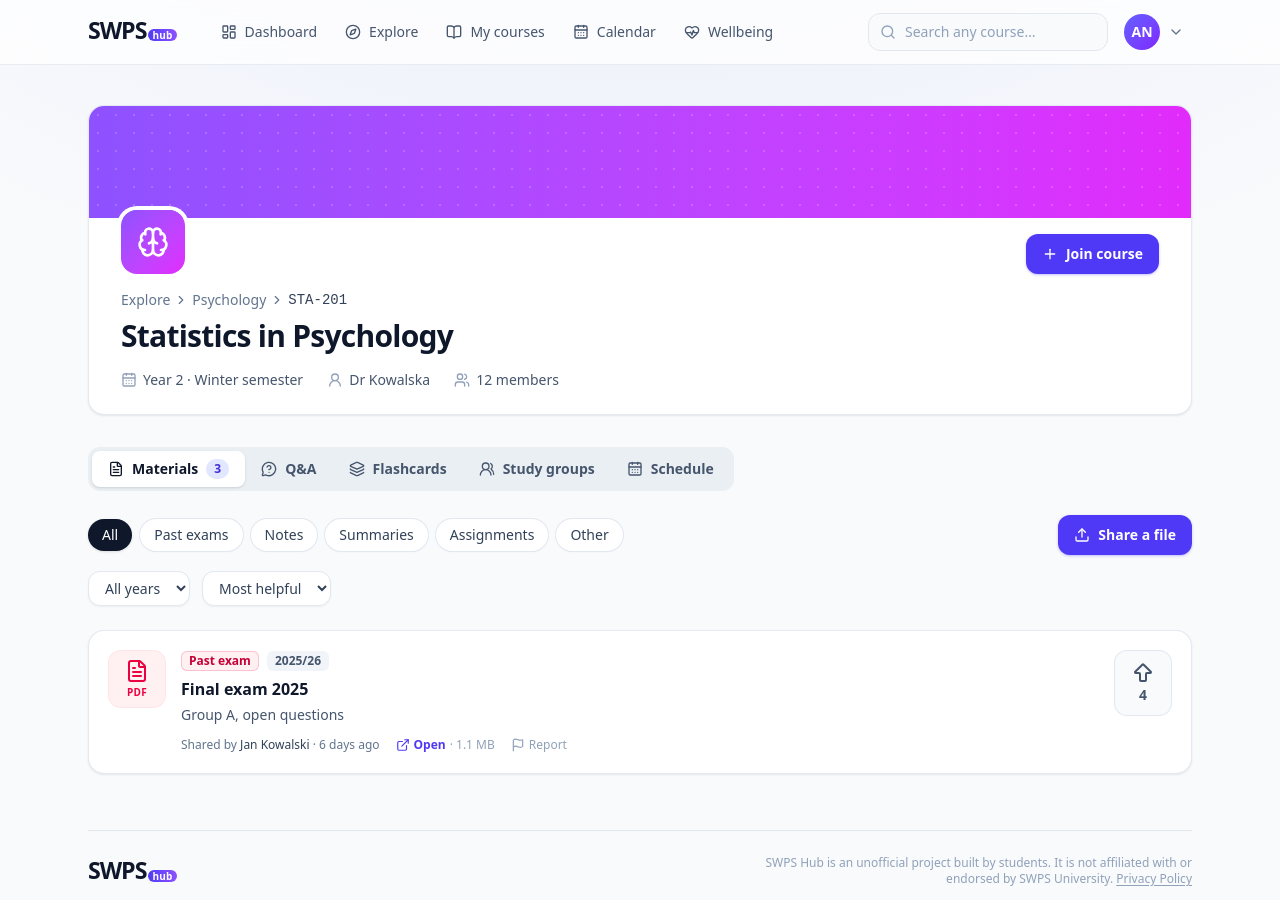
Test: course materials › lists materials and counts an upvote straight away
Check: the text "Jan Kowalski" is shown, box [240, 736, 310, 753]
Click the button named "Upvote Final exam 2025".
click(1143, 683)  # box [1115, 651, 1171, 715]
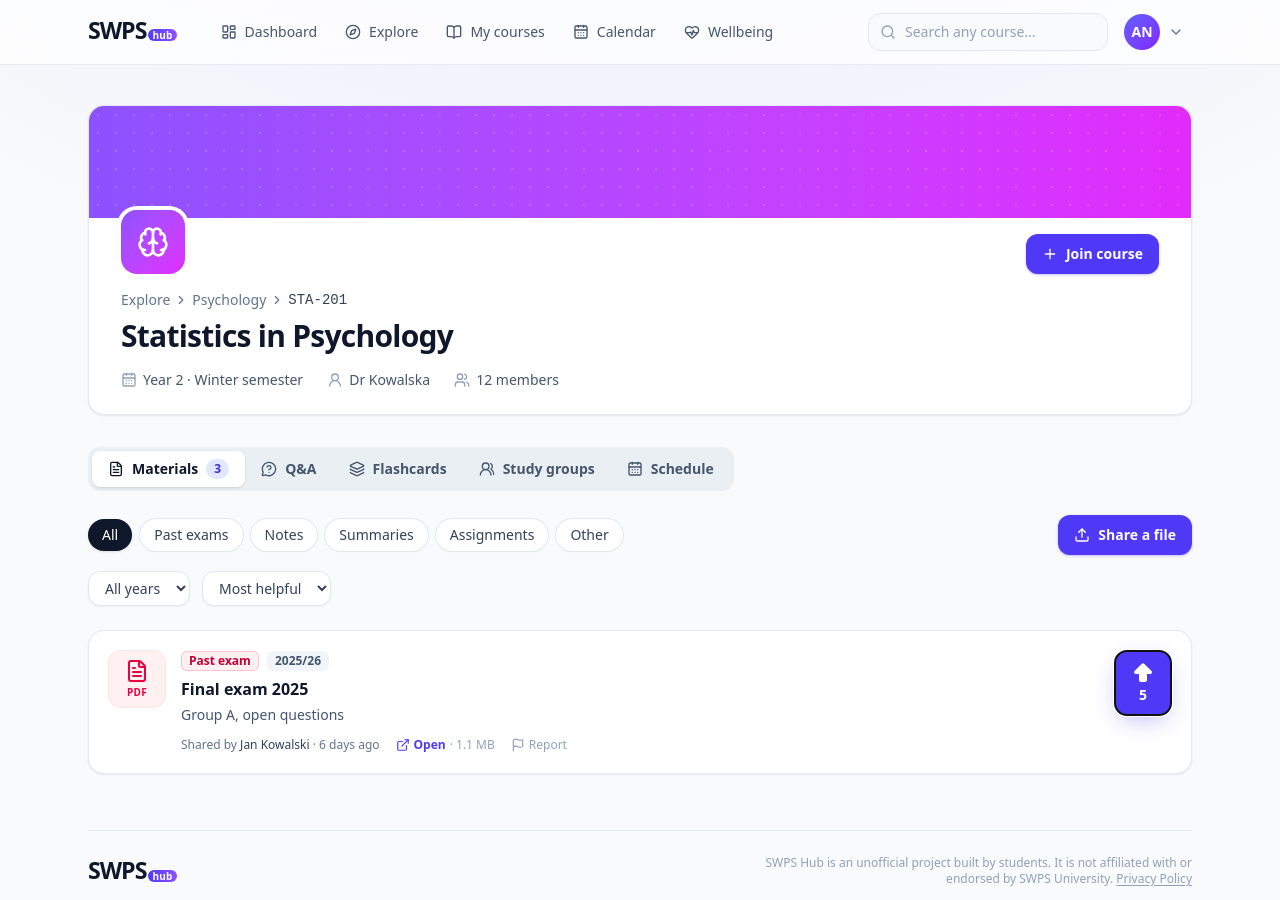
Check: the button named "Remove your upvote from Final exam 2025" reads "5", box [1115, 651, 1171, 715]
